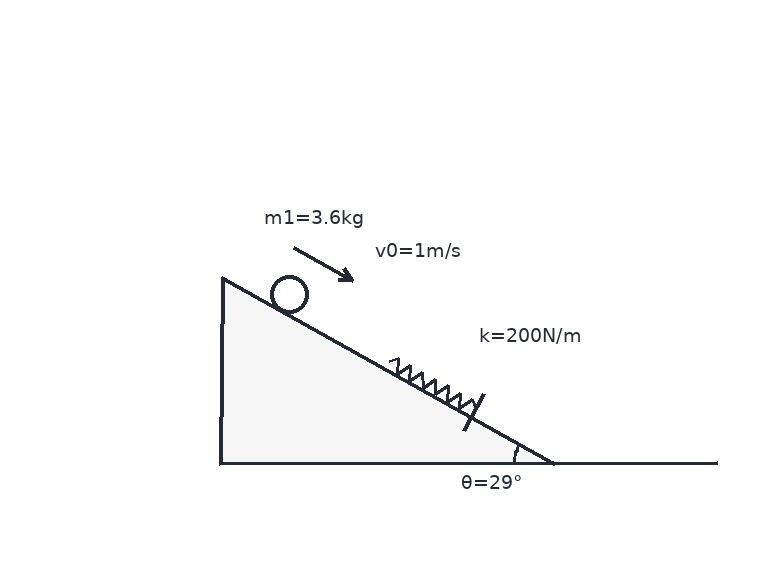ball: (268, 274, 310, 316)
ramp: (219, 276, 556, 465)
spring: (386, 356, 477, 411)
